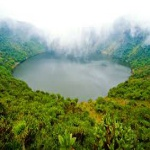Lake: (14, 43, 136, 106)
